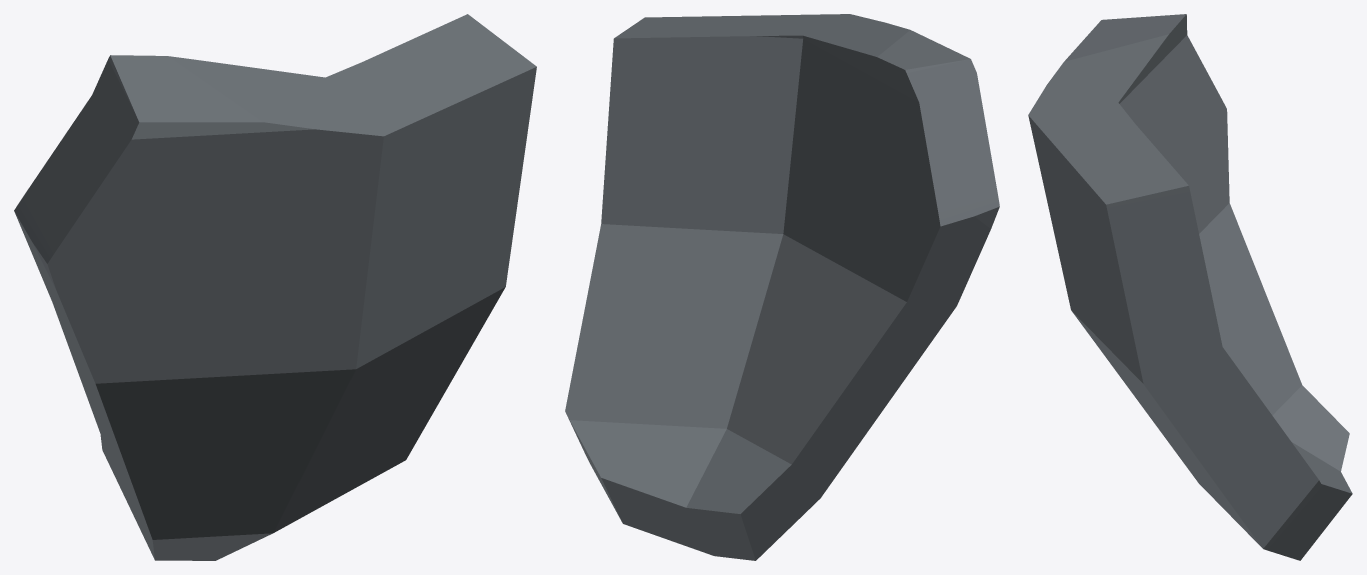
The model's file is Sphere_Fracture_09.DAE.
The picture shows the model from 3 angles, left to right: view 1: azimuth 30°, elevation 25°; view 2: azimuth 150°, elevation 25°; view 3: azimuth 270°, elevation 25°; orthographic projection. The views are drawn at different scales.
Visible parts, largest first — view 1: Sphere_Fracture_09; view 2: Sphere_Fracture_09; view 3: Sphere_Fracture_09.
Boxes of the visible parts, left/top/right/bottom form: Sphere_Fracture_09: left=14, top=14, right=536, bottom=560; Sphere_Fracture_09: left=565, top=14, right=999, bottom=560; Sphere_Fracture_09: left=1028, top=14, right=1352, bottom=560.
Size of the model in its own units: 0.831 by 1.02 by 0.6522.
3 materials, 3 textured.
